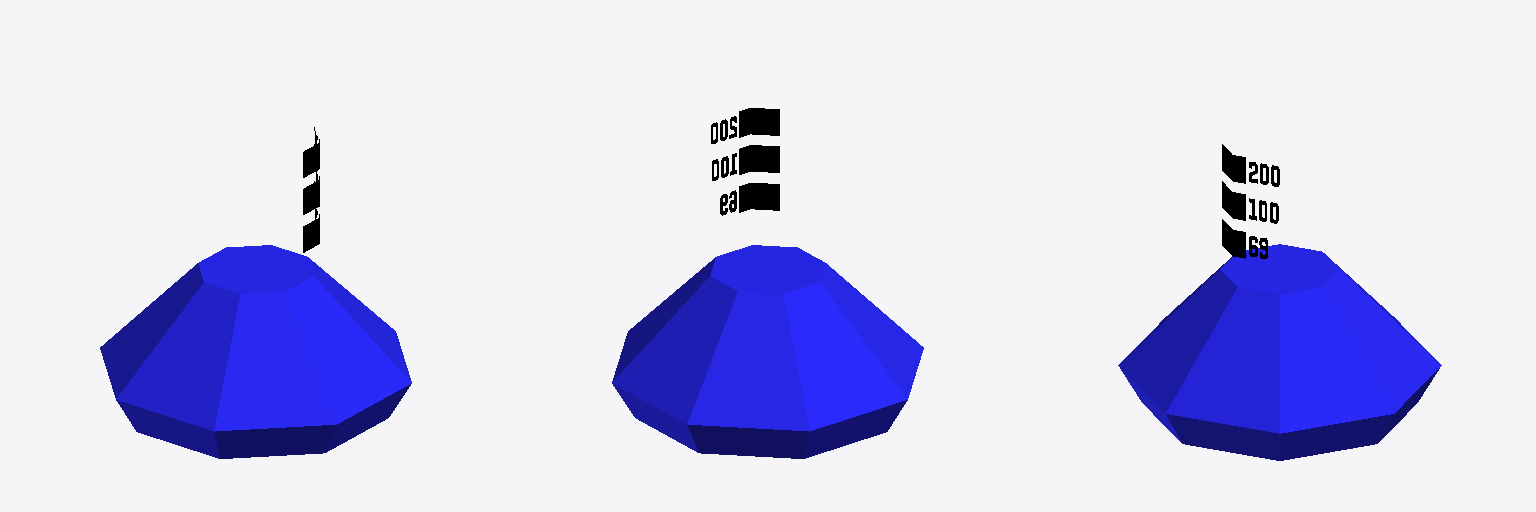
3 renders of one model, left to right at view 1: azimuth 30°, elevation 25°; view 2: azimuth 150°, elevation 25°; view 3: azimuth 270°, elevation 25°, orthographic.
Parts seen in each view (by area): view 1: fluid, p_flask_triangle.001; view 2: fluid, p_flask_triangle.001; view 3: fluid, p_flask_triangle.001.
Part boxes in pixels (x1,y1,x2,y2): fluid: (100, 245, 411, 458); p_flask_triangle.001: (303, 127, 319, 252); fluid: (612, 245, 923, 458); p_flask_triangle.001: (711, 108, 779, 215); fluid: (1118, 244, 1441, 460); p_flask_triangle.001: (1222, 144, 1279, 258).
Size of the model in its own units: 1.52 by 1.51 by 1.52.
2 materials, 2 textured.